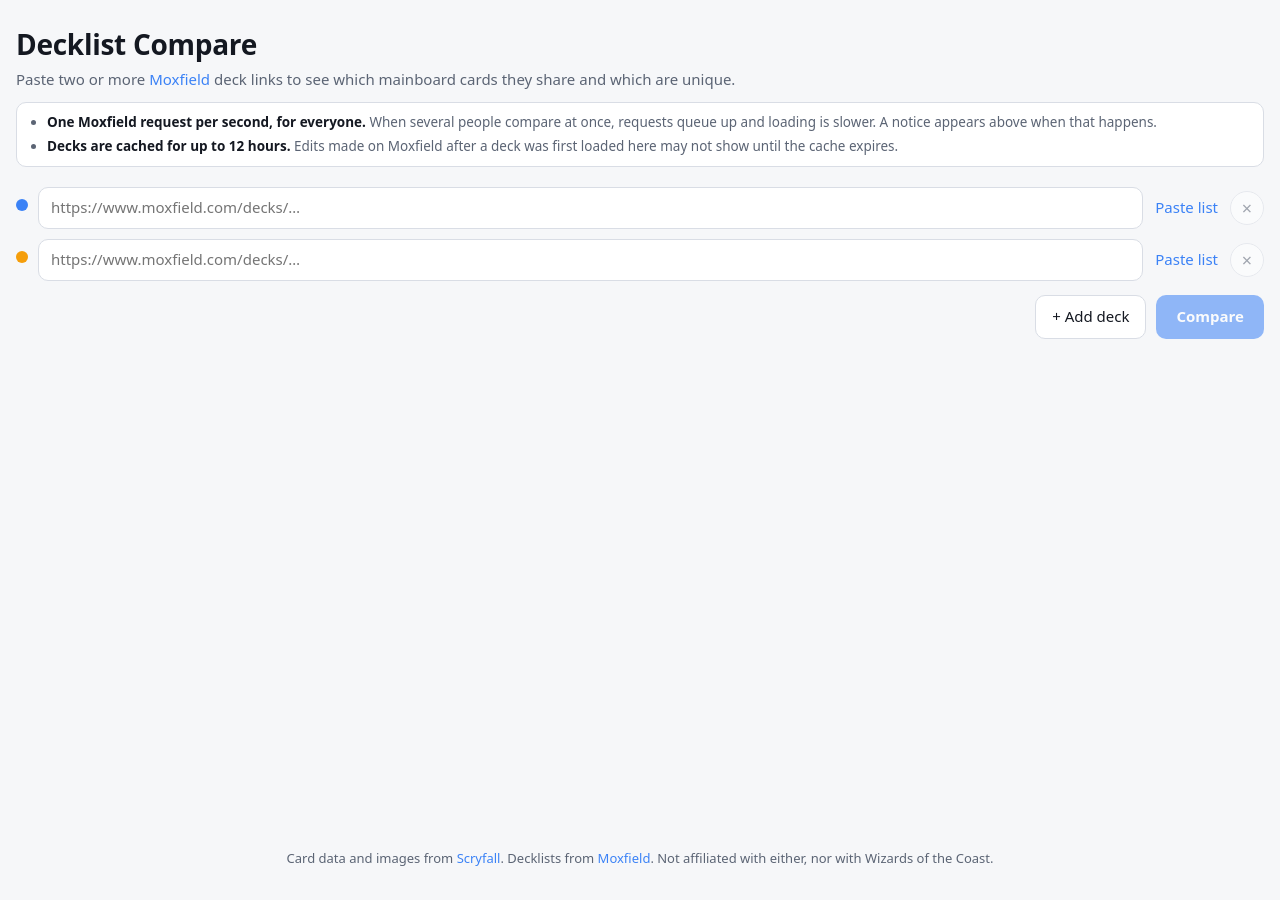
Test: App end-to-end (mocked network) › shows a per-deck error and opens the paste box when Moxfield refuses
Type "https://www.moxfield.com/decks/AAAAAAAAAAAAAAAAAAAAAA" into the 1st field with placeholder "https://www.moxfield.com/decks/…" at (591, 208), box [38,188,1143,229]
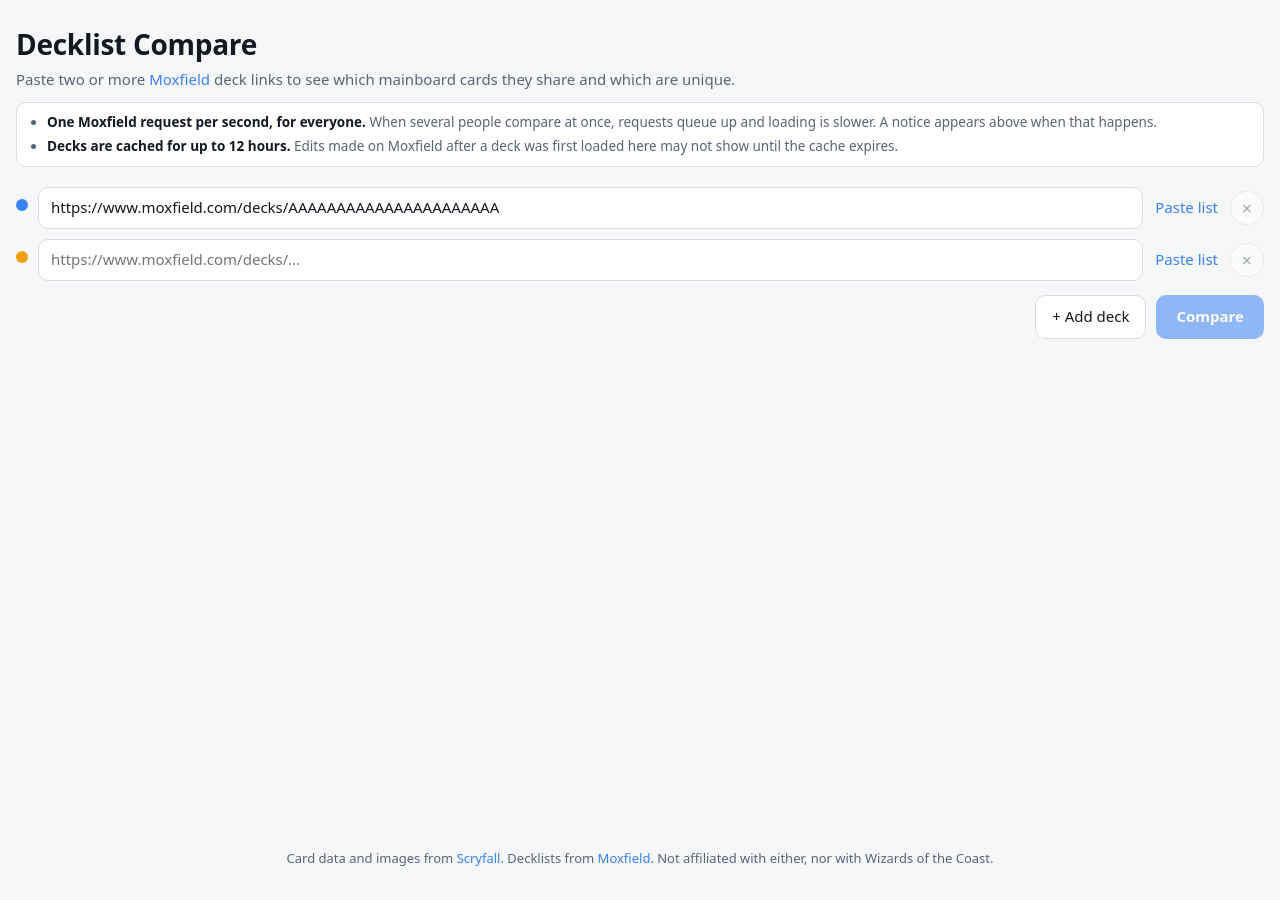
Type "https://www.moxfield.com/decks/CCCCCCCCCCCCCCCCCCCCCC" into the field with placeholder "https://www.moxfield.com/decks/…" at (591, 260), box [38,239,1143,281]
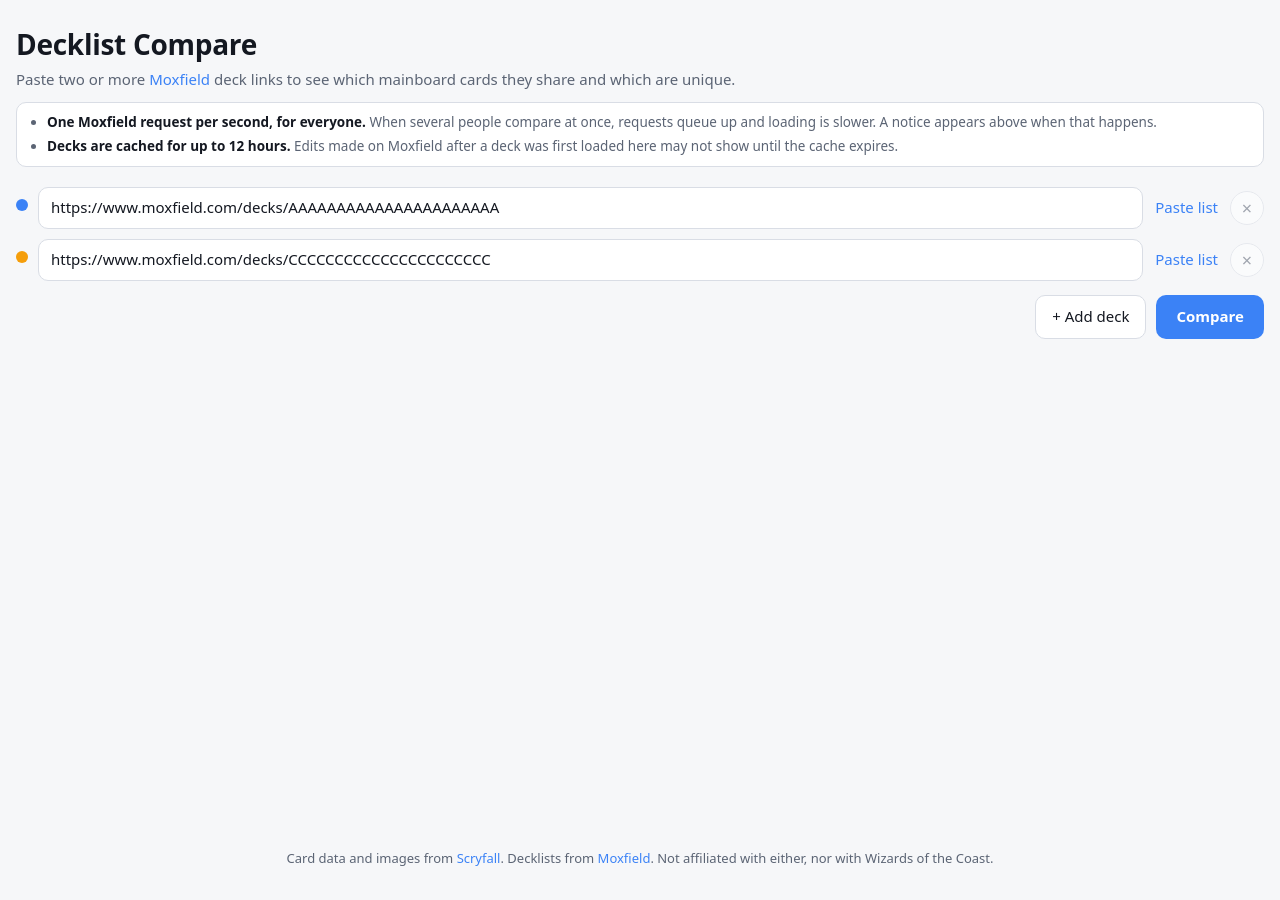
Click the button "Compare" at (1210, 317), box [1156,295,1264,339]
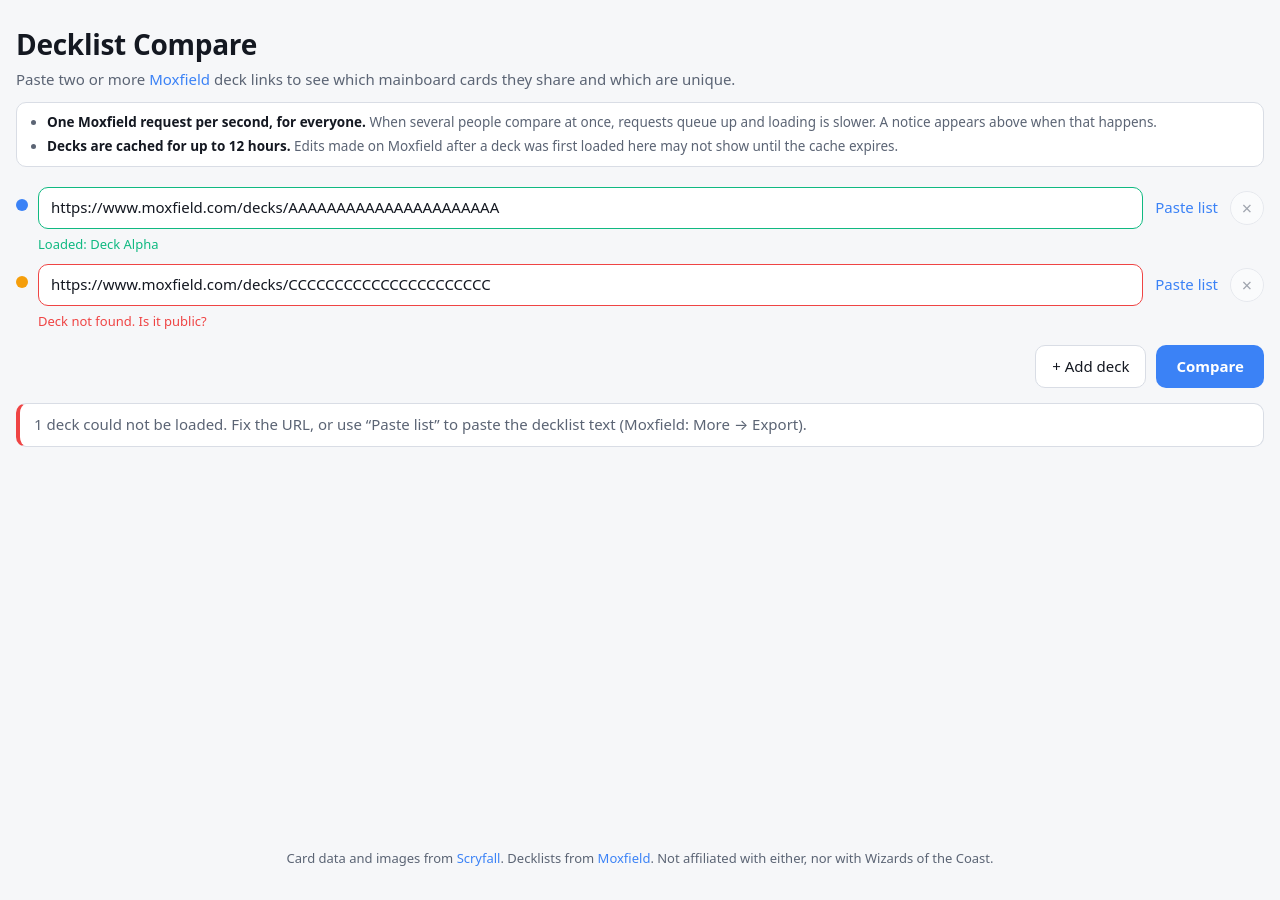
Now the text "Deck not found. Is it public?" is shown, box [38,312,207,330]
Now the text "could not be loaded" is shown, box [79,414,807,434]
